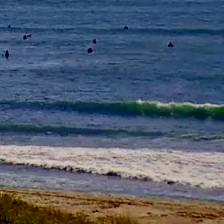surfer: (166, 41, 174, 48), (4, 50, 10, 58), (91, 38, 97, 44), (86, 48, 92, 54), (22, 34, 27, 40), (123, 26, 129, 30), (26, 34, 32, 38), (7, 25, 12, 29)
